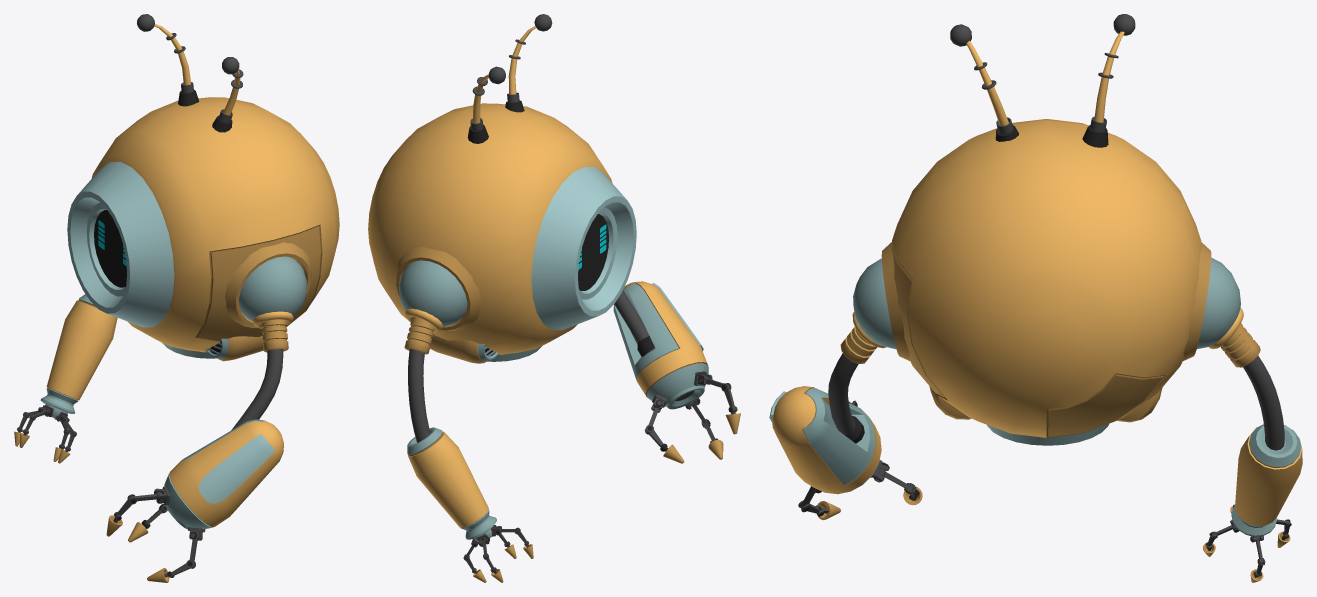
The model's file is alhibot.fbx.
The picture shows the model from 3 angles, left to right: view 1: azimuth 30°, elevation 25°; view 2: azimuth 150°, elevation 25°; view 3: azimuth 270°, elevation 25°; orthographic projection. The views are drawn at different scales.
Parts seen in each view (by area): view 1: Sphere118, Cylinder057, Sphere137, Sphere138, Object023, Object022, Object019, Cylinder072, Line004, Cylinder073, Cylinder058, Cylinder058.001 (+2 smaller); view 2: Sphere118, Cylinder057, Sphere137, Object018, Sphere138, Cylinder072, Line005, Cylinder073, Cylinder058, Cylinder058.001, Cylinder079.001, Cylinder075 (+1 smaller); view 3: Sphere118, Sphere137, Sphere138, Object018, Object023, Line005, Cylinder058, Cylinder058.001, Line004, Object019, Cylinder072, Cylinder073 (+3 smaller).
Boxes of the visible parts, x1,y1,x2,y2 form: Sphere118: (91, 97, 339, 352); Cylinder057: (67, 161, 174, 327); Sphere137: (164, 419, 283, 529); Sphere138: (40, 294, 117, 418); Object023: (239, 256, 306, 321); Object022: (198, 433, 274, 504); Object019: (225, 242, 311, 327); Cylinder072: (106, 486, 205, 582); Line004: (231, 349, 283, 430); Cylinder073: (14, 405, 76, 463); Cylinder058: (137, 14, 199, 106); Cylinder058.001: (212, 57, 243, 132); Sphere118: (368, 103, 612, 354); Cylinder057: (531, 167, 636, 330); Sphere137: (613, 281, 708, 409); Object018: (395, 246, 481, 330); Sphere138: (407, 427, 496, 541); Cylinder072: (644, 371, 740, 463); Line005: (408, 349, 430, 442); Cylinder073: (463, 525, 533, 582); Cylinder058: (467, 66, 505, 143); Cylinder058.001: (505, 14, 552, 112); Cylinder079.001: (429, 335, 487, 363); Cylinder075: (404, 316, 434, 354); Sphere118: (891, 119, 1201, 437); Sphere137: (772, 386, 881, 494); Sphere138: (1231, 424, 1302, 536); Object018: (1183, 242, 1240, 360); Object023: (853, 258, 896, 349); Line005: (1243, 356, 1284, 450); Cylinder058: (1082, 14, 1135, 147); Cylinder058.001: (950, 24, 1018, 141); Line004: (828, 353, 858, 435); Object019: (881, 242, 909, 360); Cylinder072: (798, 400, 922, 520); Cylinder073: (1202, 504, 1291, 582).
Size of the model in its own units: 4.56 by 7.24 by 5.9.
